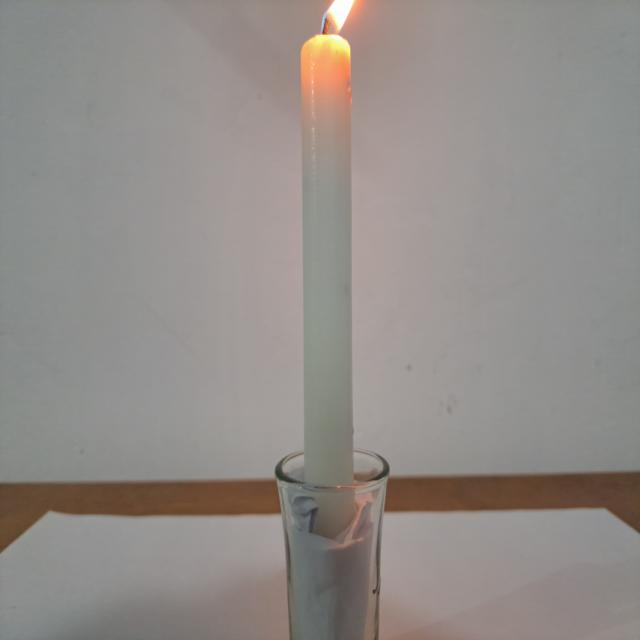candle: (265, 1, 398, 640)
